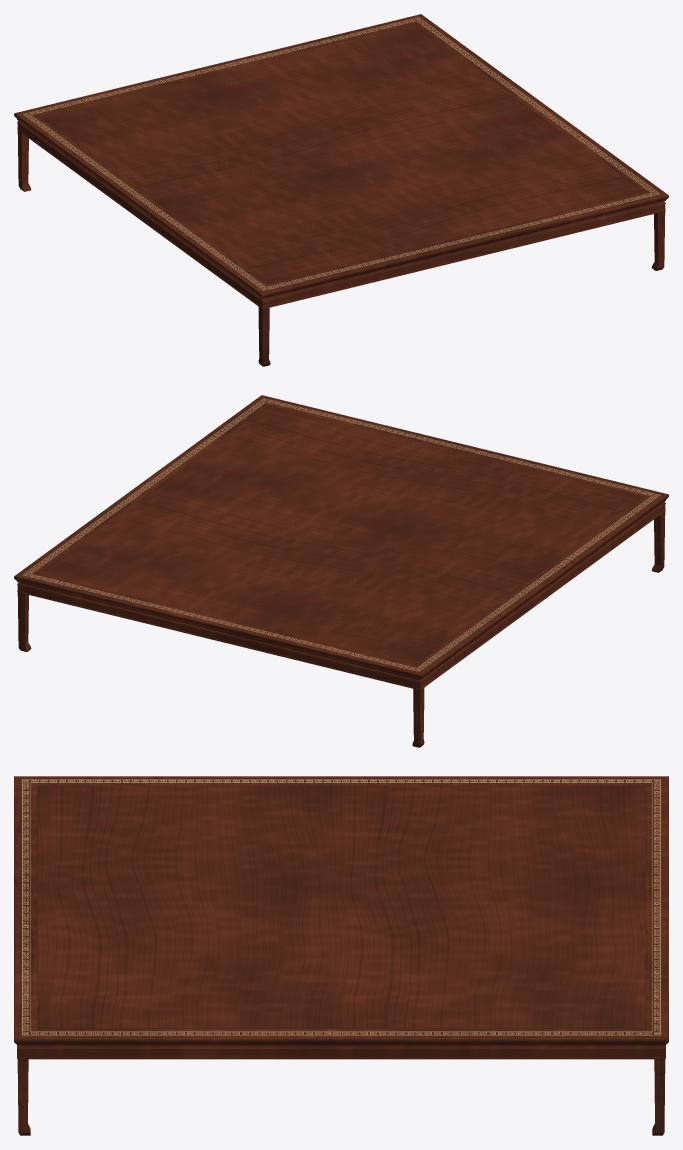
The model's file is desk.glb.
3 renders of one model, top to bottom at view 1: azimuth 30°, elevation 25°; view 2: azimuth 150°, elevation 25°; view 3: azimuth 270°, elevation 25°, orthographic. The views are drawn at different scales.
Visible parts, largest first — view 1: desk; view 2: desk; view 3: desk.
Part boxes in pixels (x1=…): desk: x1=14, y1=14, x2=668, y2=366; desk: x1=14, y1=395, x2=668, y2=747; desk: x1=14, y1=776, x2=668, y2=1135.
Bounding box in the file's own units: 17 × 3 × 17.9.
3 materials, 1 textured.
